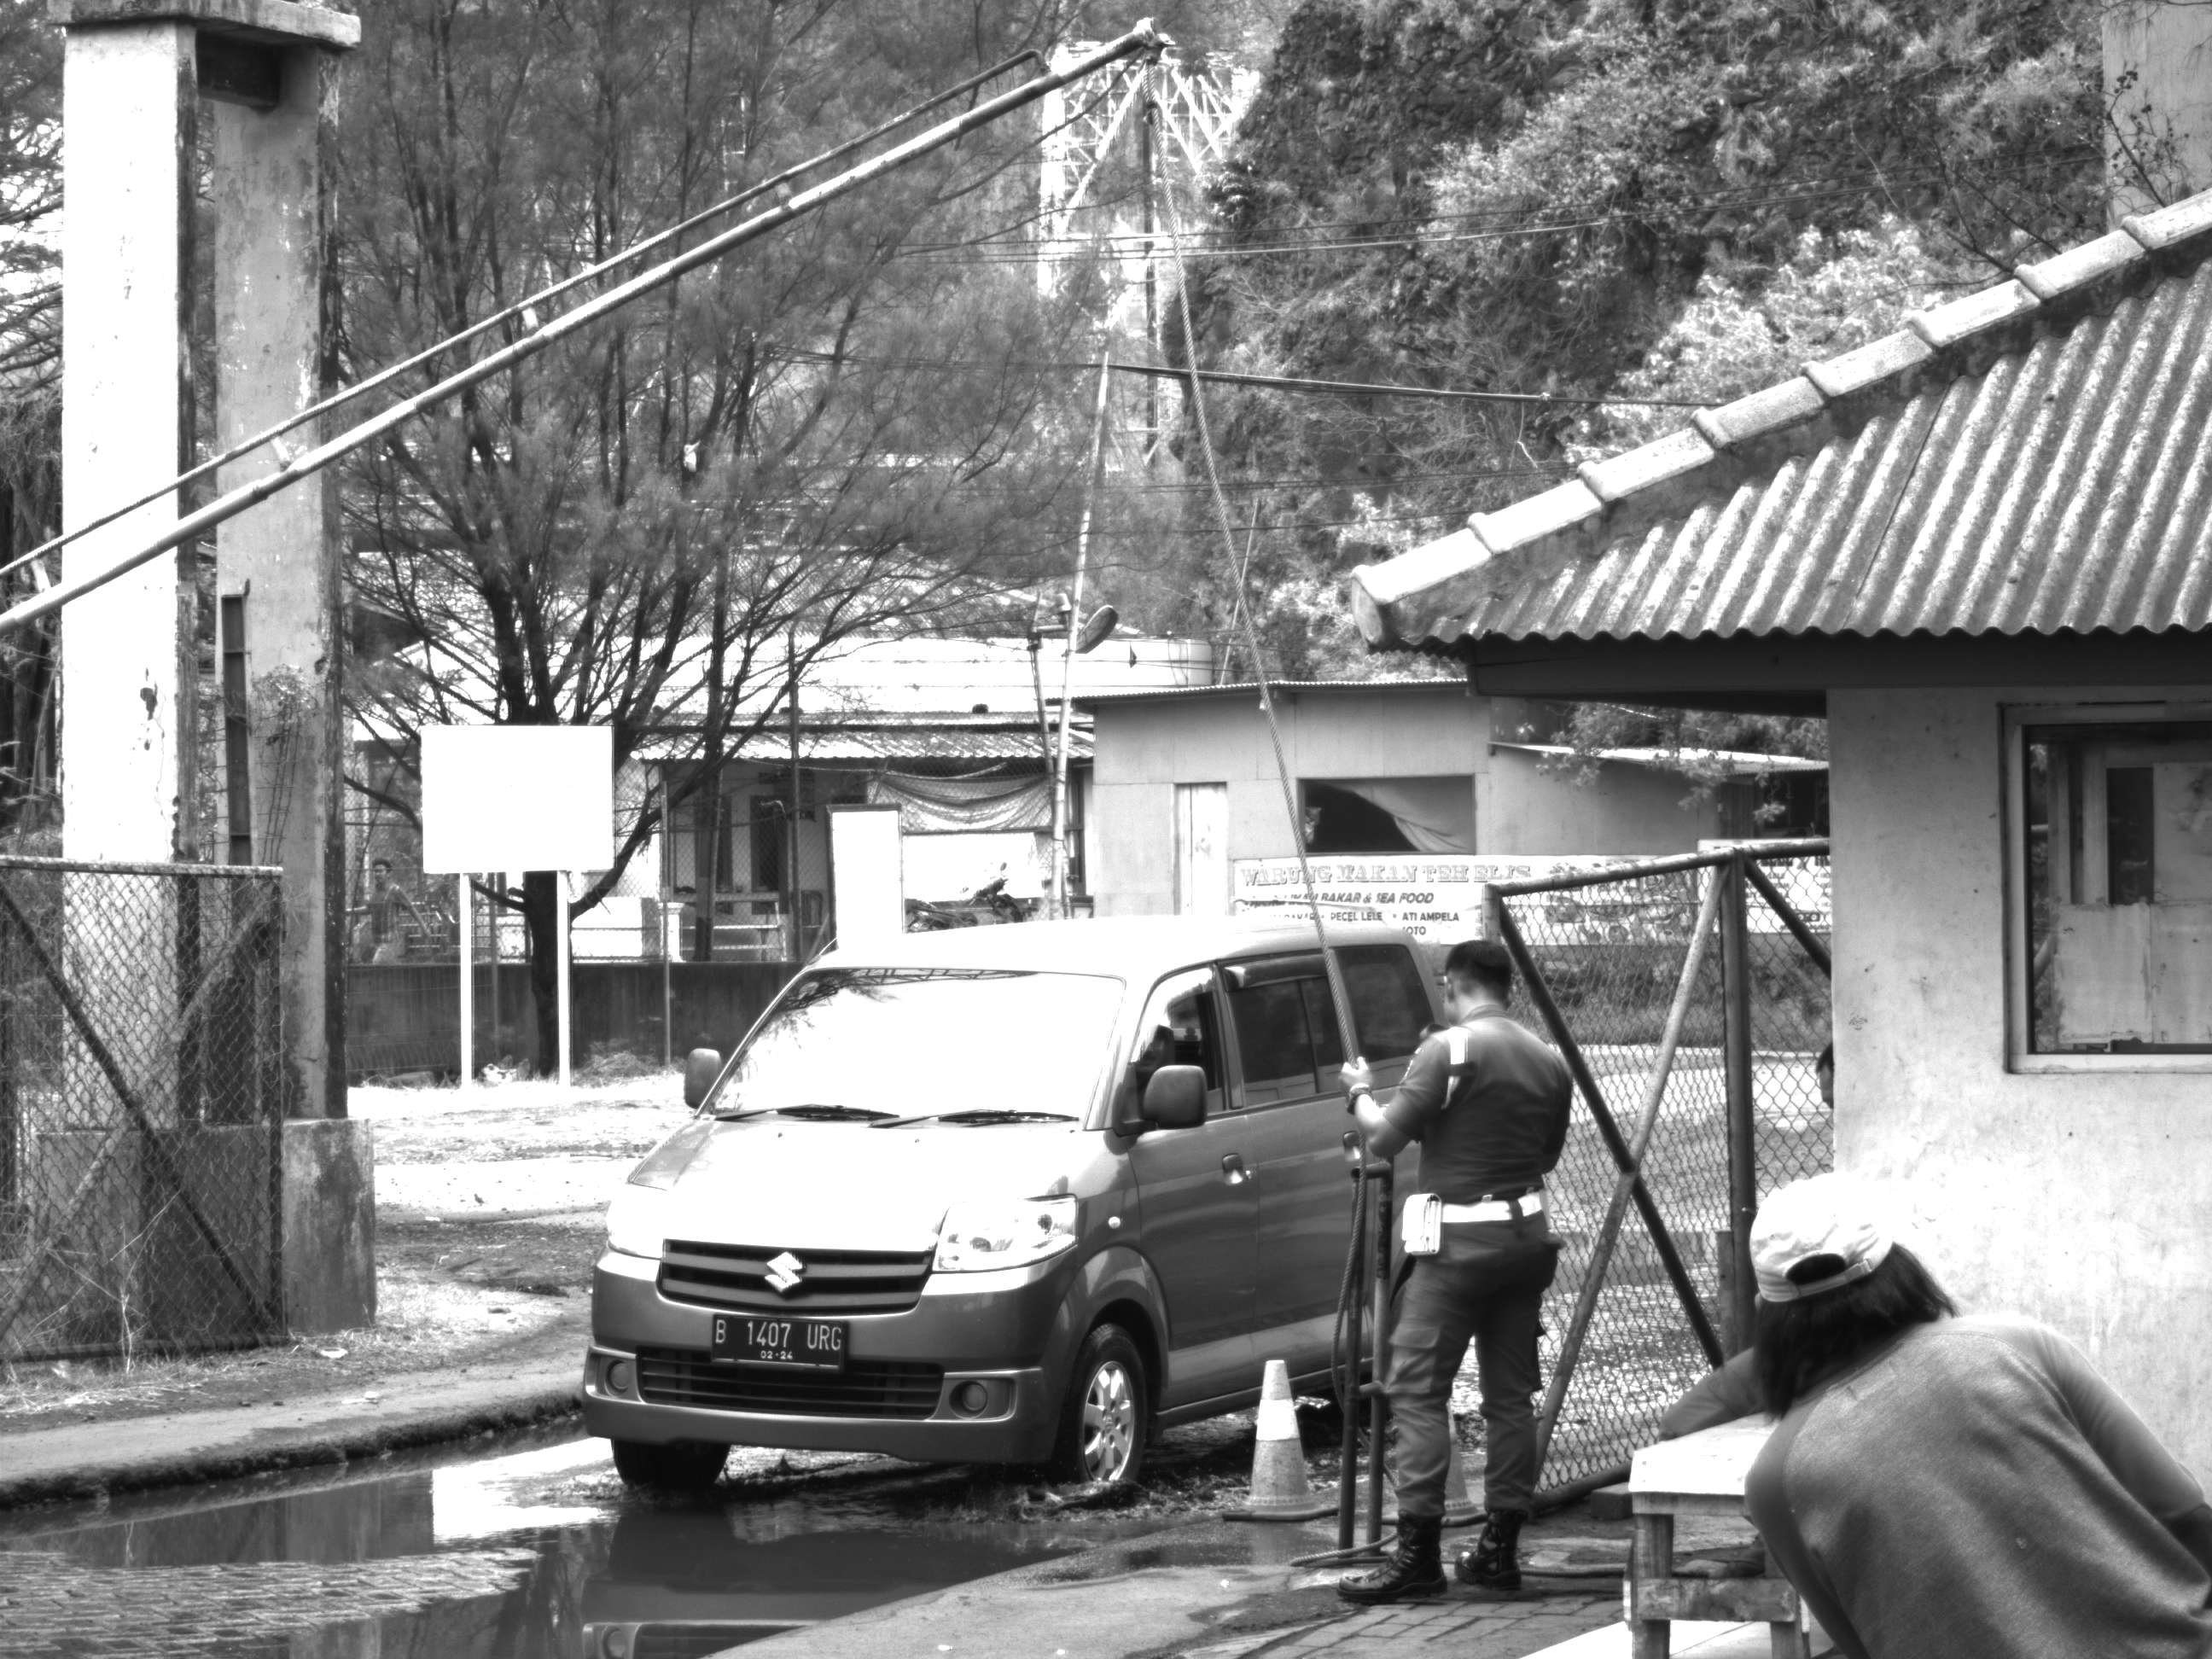day_small_front: (564, 914, 1214, 1508)
plate: (708, 1313, 852, 1371)
